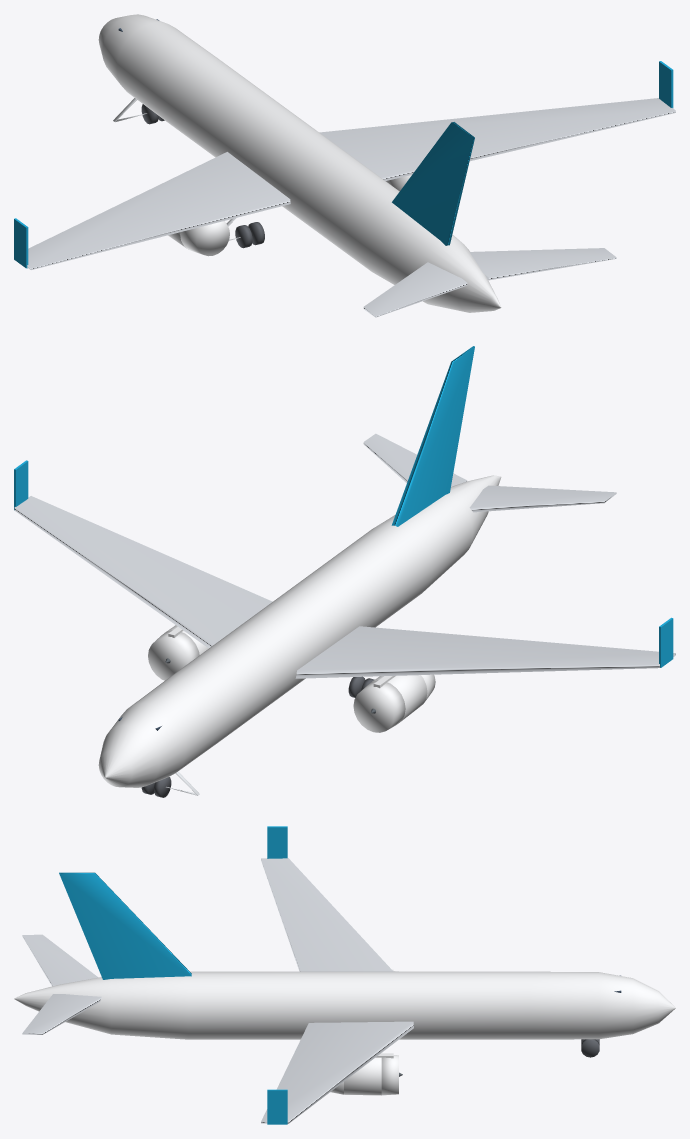
The picture shows the model from 3 angles, top to bottom: view 1: azimuth 30°, elevation 25°; view 2: azimuth 150°, elevation 25°; view 3: azimuth 270°, elevation 25°; orthographic projection. The views are drawn at different scales.
Visible parts, largest first — view 1: Fuselage, MainWings, TailSection, Engines, LandingGear; view 2: Fuselage, MainWings, TailSection, Engines, LandingGear; view 3: Fuselage, MainWings, TailSection, Engines.
Part boxes in pixels (left/top/right/bottom): Fuselage: left=98, top=14, right=501, bottom=312; MainWings: left=14, top=61, right=675, bottom=269; TailSection: left=363, top=122, right=616, bottom=317; Engines: left=168, top=175, right=411, bottom=256; LandingGear: left=113, top=98, right=264, bottom=248; Fuselage: left=98, top=475, right=501, bottom=787; MainWings: left=14, top=460, right=675, bottom=678; TailSection: left=363, top=346, right=616, bottom=526; Engines: left=148, top=625, right=435, bottom=732; LandingGear: left=141, top=676, right=374, bottom=797; Fuselage: left=14, top=971, right=675, bottom=1039; MainWings: left=261, top=826, right=413, bottom=1124; TailSection: left=22, top=872, right=191, bottom=1034; Engines: left=330, top=969, right=402, bottom=1095.
Bounding box in the file's own units: 36.52 × 11.65 × 38.7.
